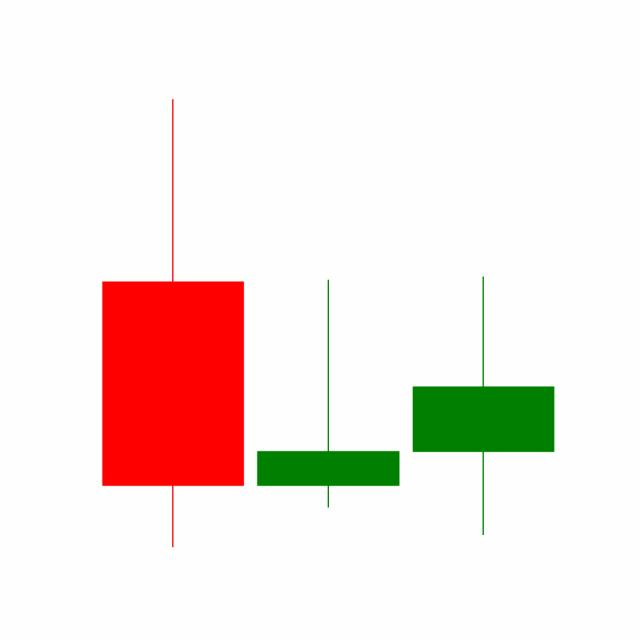Hammer: (405, 274, 561, 538)
